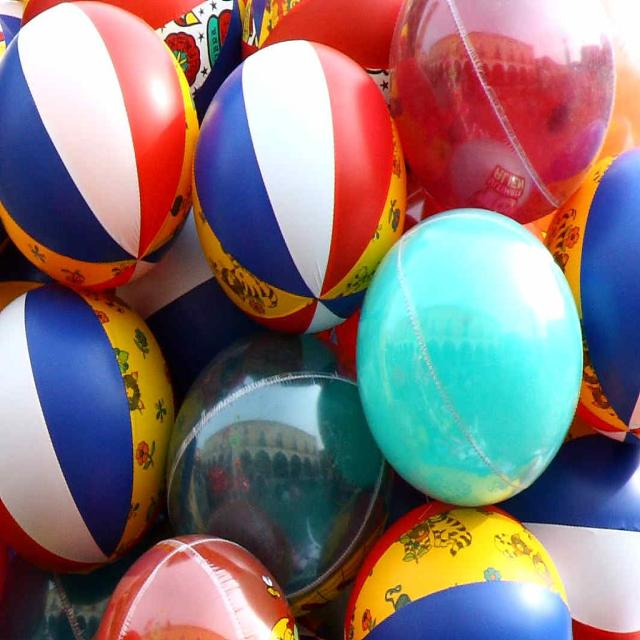balloon: (160, 334, 394, 640), (354, 208, 588, 510), (192, 40, 410, 336), (1, 1, 206, 300), (386, 1, 616, 236), (1, 291, 175, 592), (344, 506, 576, 640), (513, 416, 640, 640), (546, 150, 640, 444), (88, 542, 304, 640)
